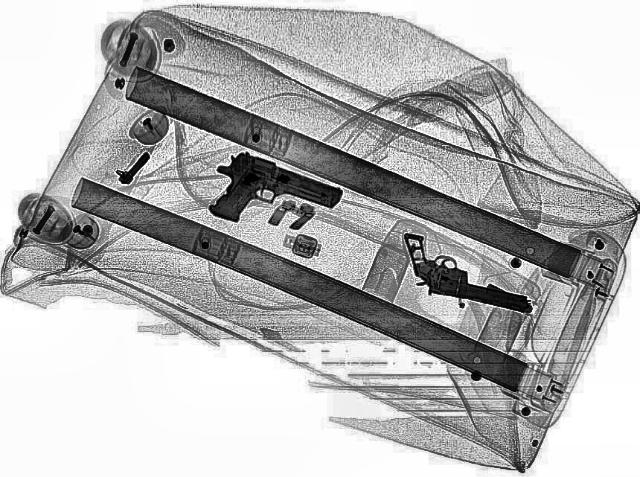Gun: (188, 146, 350, 246), (380, 231, 552, 313)
